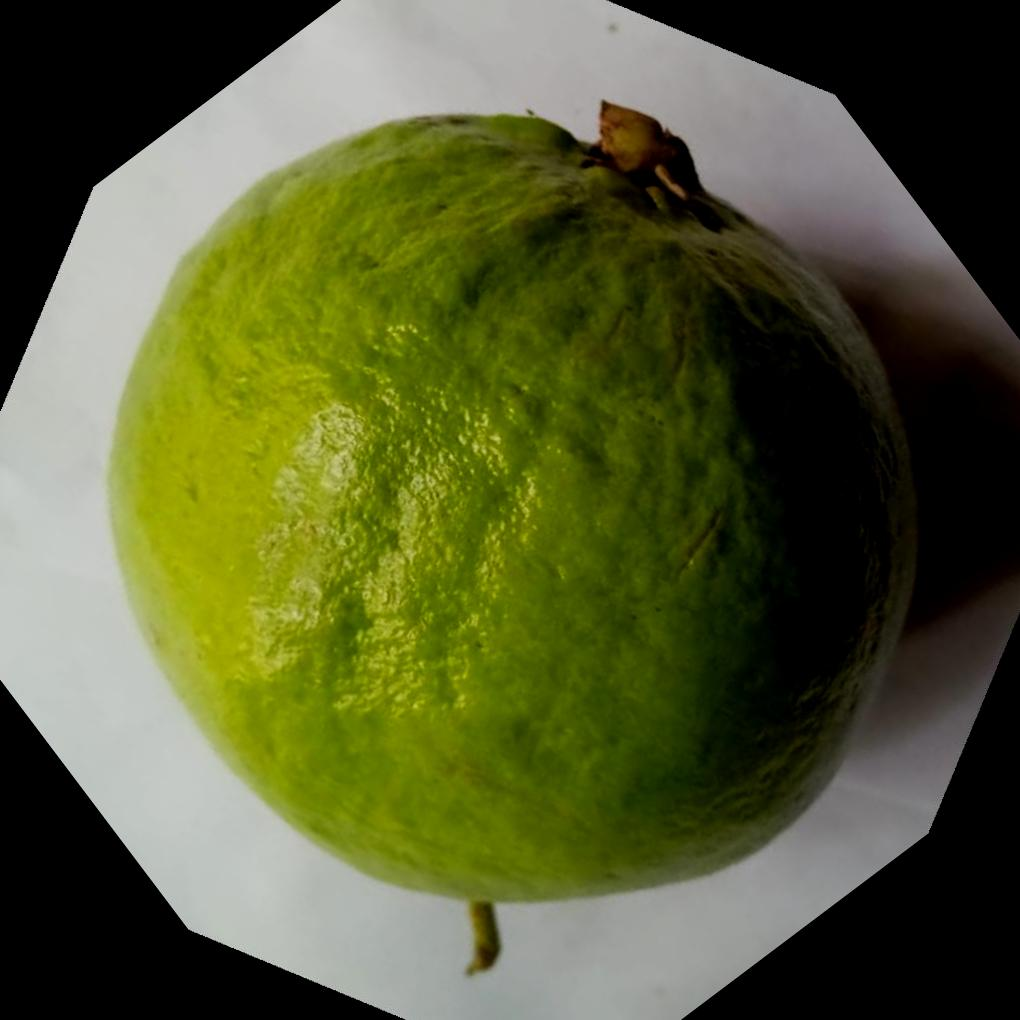FreshGuava: (99, 98, 918, 904)
